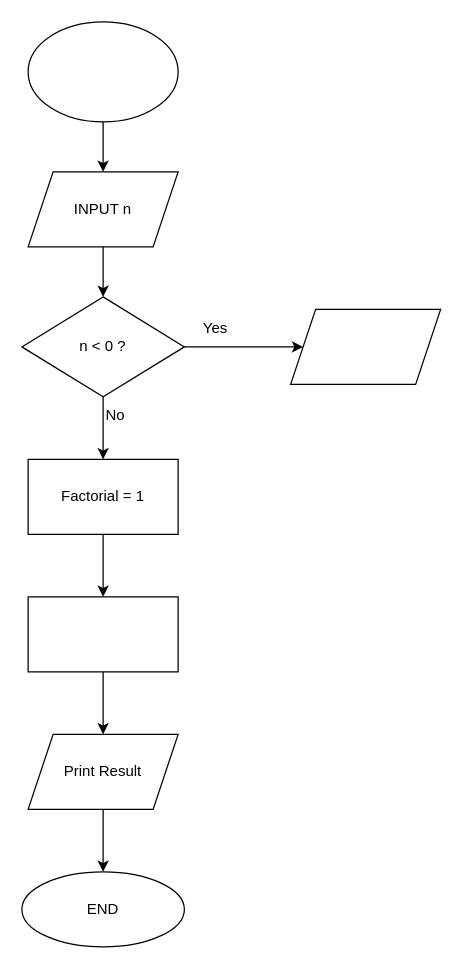
Some shapes in this 463 by 969 pixel diagram are drawn without their labels. Here are the shapes that lost their labels. From the top down, the centre of each, then its label:
point 102,71: START
point 365,346: Print Error
point 102,634: loop i=1 to n factorial*=i
